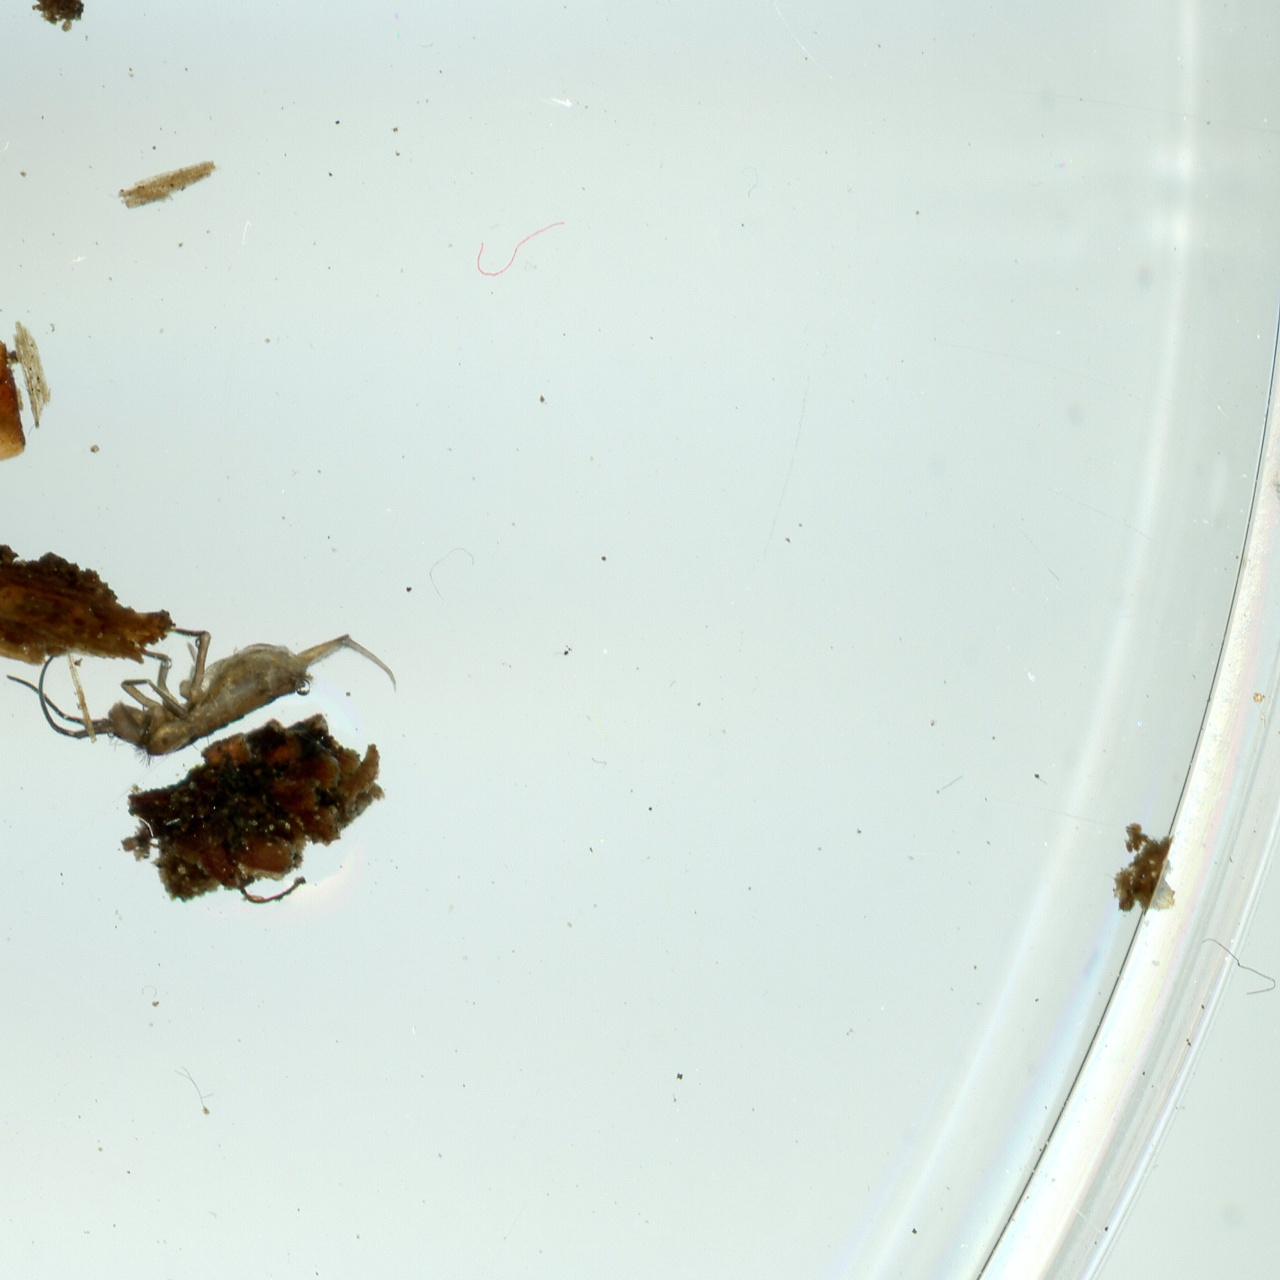arthropod: (0, 506, 407, 857)
